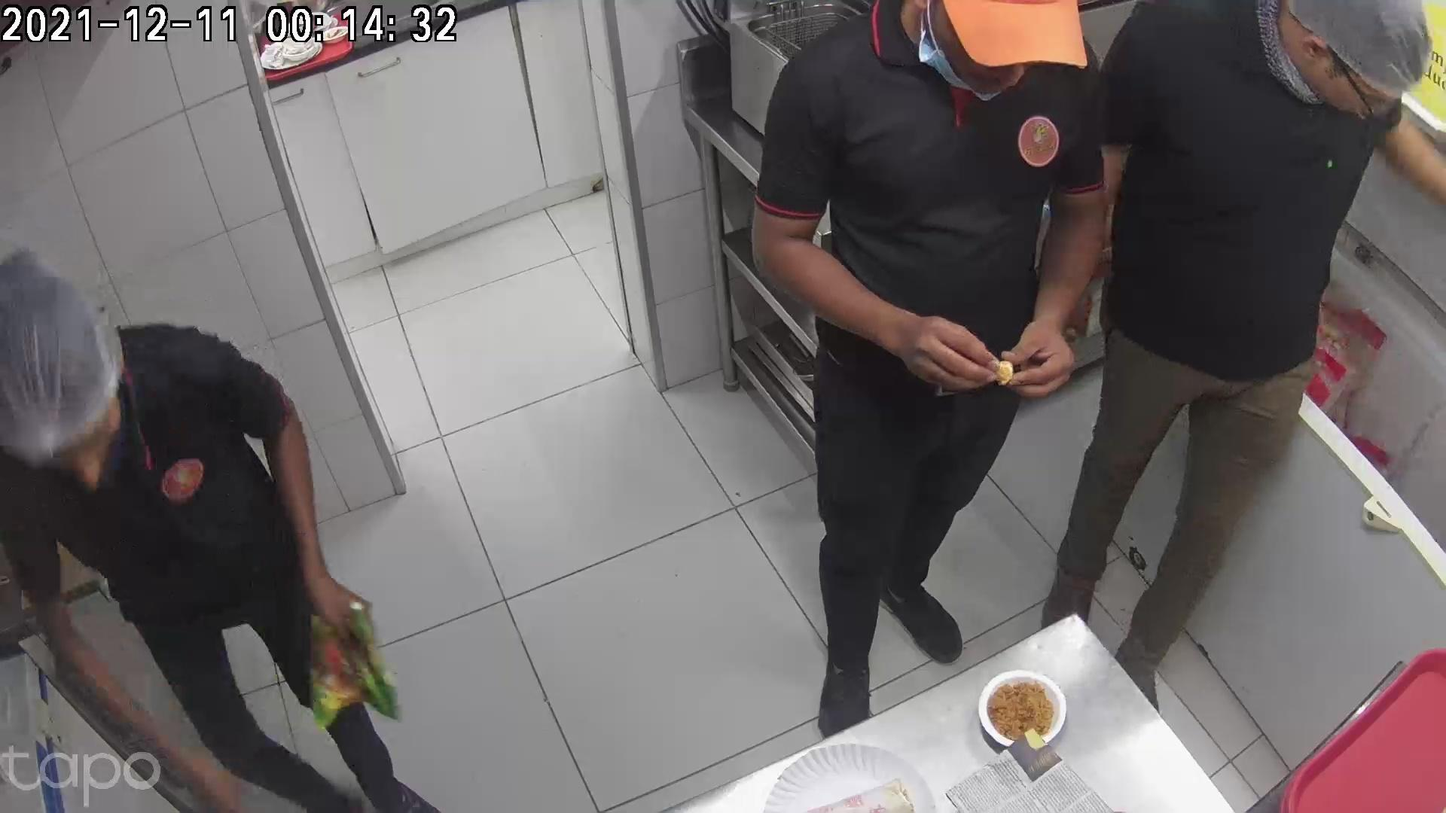no_gloves: (589, 293, 741, 404)
